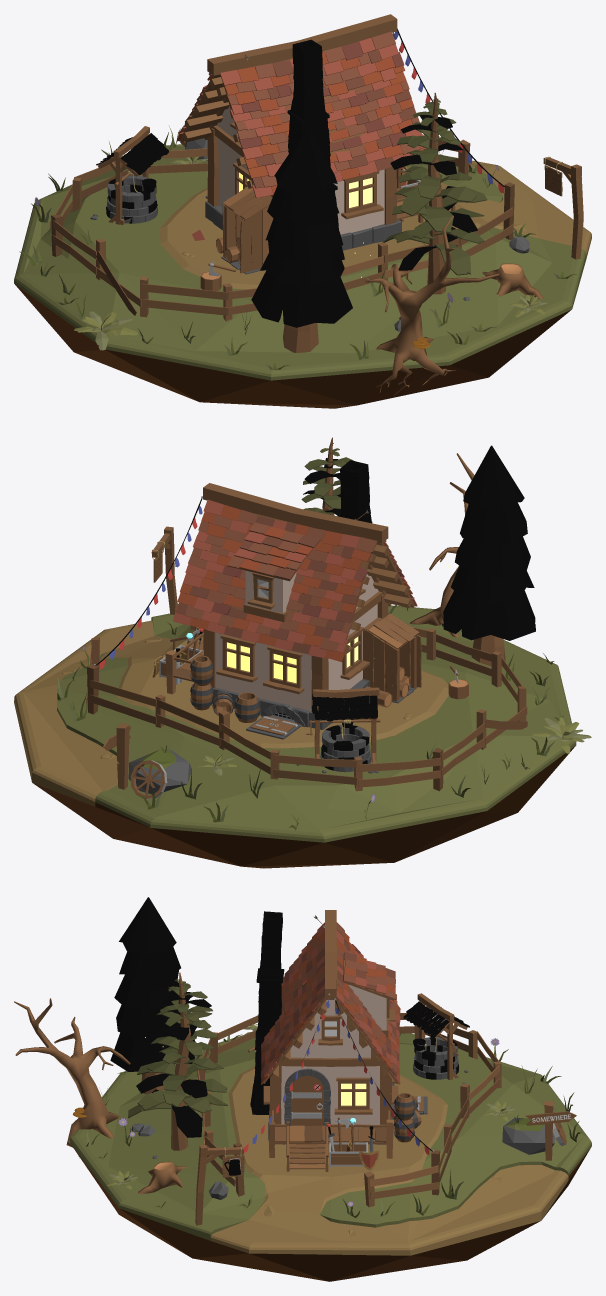
Rendered from medieval-island-compressed.glb.
The picture shows the model from 3 angles, top to bottom: view 1: azimuth 30°, elevation 25°; view 2: azimuth 150°, elevation 25°; view 3: azimuth 270°, elevation 25°; orthographic projection. The views are drawn at different scales.
Parts seen in each view (by area): view 1: Icosphere.004_Base grass_0, Barrel bottom.003_Wood1_0, Cylinder.022_Leaves1_0, Base_Base dirt_0, Icosphere.007_Base path_0, Cylinder.023_Leaves2_0, Roof tiles.014_Roof tiles2_0, Roof tiles.015_Roof tiles1_0, Roof tiles.014_Roof tiles3_0, Cube.039_Chimney stones1_0, Circle_Material_0, Roof tiles.014_Roof tiles4_0 (+13 smaller); view 2: Icosphere.004_Base grass_0, Barrel bottom.003_Wood1_0, Icosphere.007_Base path_0, Base_Base dirt_0, Cylinder.022_Leaves1_0, Roof tiles.015_Roof tiles1_0, Roof tiles.014_Roof tiles2_0, Roof tiles.014_Roof tiles3_0, Circle_Material_0, Roof tiles.014_Roof tiles4_0, Cube.716_Wood3_0, Icosphere.004_Grass1_0 (+14 smaller); view 3: Icosphere.004_Base grass_0, Barrel bottom.003_Wood1_0, Icosphere.007_Base path_0, Cylinder.022_Leaves1_0, Base_Base dirt_0, Circle_Material_0, Cylinder.023_Leaves2_0, Roof tiles.015_Roof tiles1_0, Roof tiles.014_Roof tiles2_0, Cube.039_Chimney stones1_0, Roof tiles.014_Roof tiles3_0, Cube.714_Wood2_0 (+11 smaller).
Boxes of the visible parts, x1,y1,x2,y2 form: Icosphere.004_Base grass_0: (14, 144, 586, 380); Barrel bottom.003_Wood1_0: (50, 14, 583, 395); Cylinder.022_Leaves1_0: (251, 111, 477, 327); Base_Base dirt_0: (15, 284, 570, 408); Icosphere.007_Base path_0: (160, 155, 591, 289); Cylinder.023_Leaves2_0: (382, 98, 487, 275); Roof tiles.014_Roof tiles2_0: (176, 51, 426, 194); Roof tiles.015_Roof tiles1_0: (185, 31, 420, 187); Roof tiles.014_Roof tiles3_0: (178, 38, 423, 240); Cube.039_Chimney stones1_0: (287, 42, 344, 259); Circle_Material_0: (217, 106, 384, 234); Roof tiles.014_Roof tiles4_0: (189, 49, 416, 188); Icosphere.004_Base grass_0: (57, 605, 576, 842); Barrel bottom.003_Wood1_0: (86, 437, 527, 798); Icosphere.007_Base path_0: (14, 620, 448, 806); Base_Base dirt_0: (33, 746, 575, 868); Cylinder.022_Leaves1_0: (303, 445, 535, 640); Roof tiles.015_Roof tiles1_0: (184, 510, 401, 651); Roof tiles.014_Roof tiles2_0: (177, 505, 412, 662); Roof tiles.014_Roof tiles3_0: (173, 499, 417, 719); Circle_Material_0: (215, 570, 378, 711); Roof tiles.014_Roof tiles4_0: (176, 515, 414, 654); Cube.716_Wood3_0: (87, 625, 527, 791); Icosphere.004_Grass1_0: (57, 608, 562, 830); Icosphere.004_Base grass_0: (69, 1033, 591, 1240); Barrel bottom.003_Wood1_0: (14, 910, 576, 1225); Icosphere.007_Base path_0: (210, 1066, 568, 1255); Cylinder.022_Leaves1_0: (110, 897, 211, 1137); Base_Base dirt_0: (71, 1145, 590, 1281); Circle_Material_0: (230, 985, 386, 1168); Cylinder.023_Leaves2_0: (128, 979, 227, 1118); Roof tiles.015_Roof tiles1_0: (263, 922, 397, 1074); Roof tiles.014_Roof tiles2_0: (261, 931, 400, 1084); Cube.039_Chimney stones1_0: (251, 912, 284, 1114); Roof tiles.014_Roof tiles3_0: (261, 922, 400, 1084); Cube.714_Wood2_0: (197, 1065, 499, 1186).
Bounding box in the file's own units: 14.67 × 9.7 × 16.46.
58 materials, 19 textured.
